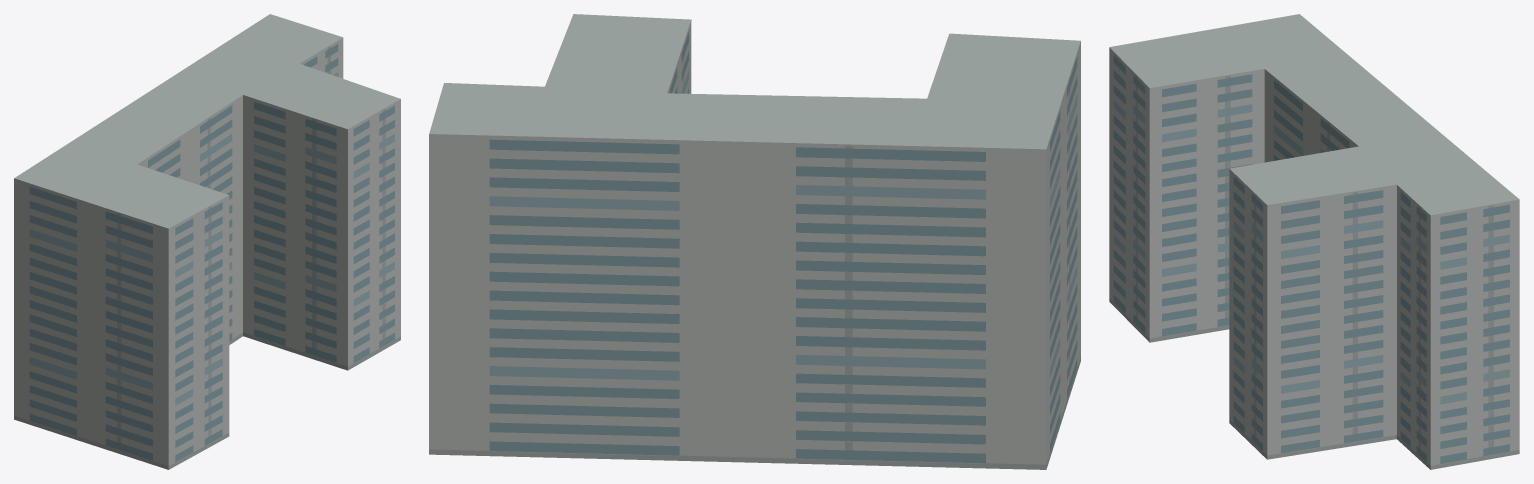
The model's file is residential-00f42d58-2647-456e-9126-9bc9b0ec6e65.glb.
3 views of the same model, side by side, from view 1: azimuth 30°, elevation 25°; view 2: azimuth 150°, elevation 25°; view 3: azimuth 270°, elevation 25° (orthographic). The views are drawn at different scales.
Visible parts, largest first — view 1: residential-00f42d58-2647-456e-9126-9bc9b0ec6e65.tmp; view 2: residential-00f42d58-2647-456e-9126-9bc9b0ec6e65.tmp; view 3: residential-00f42d58-2647-456e-9126-9bc9b0ec6e65.tmp.
Boxes of the visible parts, box(x1,y1,x2,y2) form: residential-00f42d58-2647-456e-9126-9bc9b0ec6e65.tmp: box(14, 14, 400, 469); residential-00f42d58-2647-456e-9126-9bc9b0ec6e65.tmp: box(429, 14, 1080, 469); residential-00f42d58-2647-456e-9126-9bc9b0ec6e65.tmp: box(1109, 14, 1519, 469).
Size of the model in its own units: 96.73 by 57 by 83.3.
